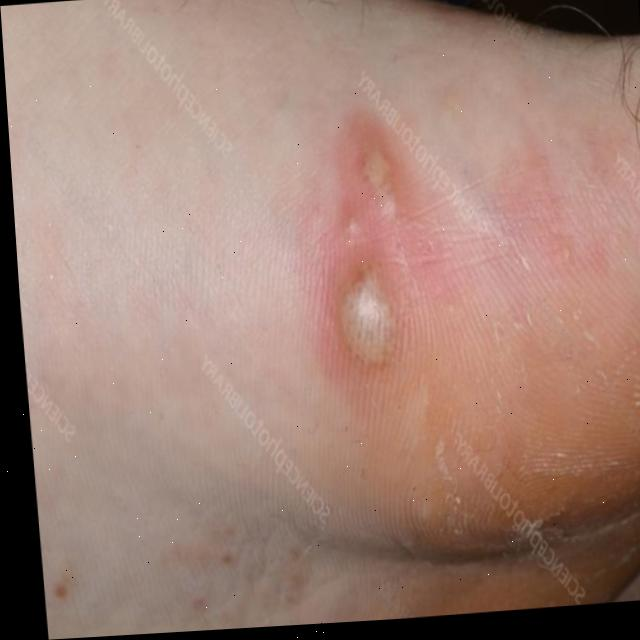Eczema: (286, 143, 495, 351)
